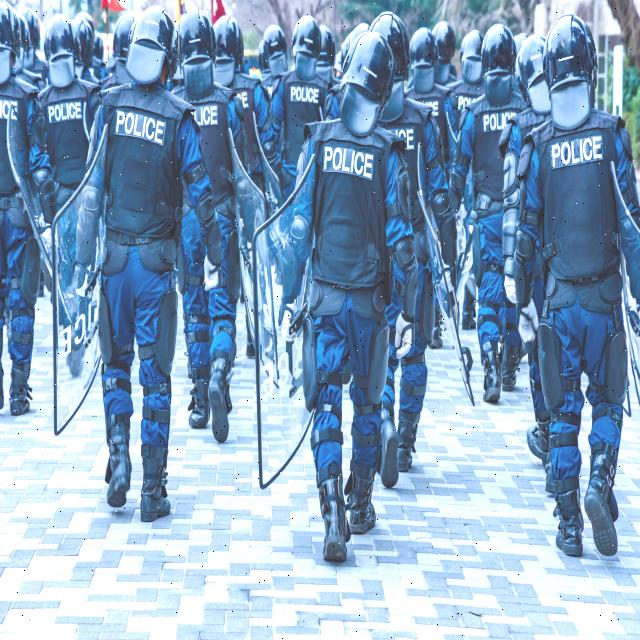police: (263, 1, 462, 537), (62, 0, 225, 510), (513, 8, 640, 559), (0, 0, 97, 466), (450, 6, 543, 426)
